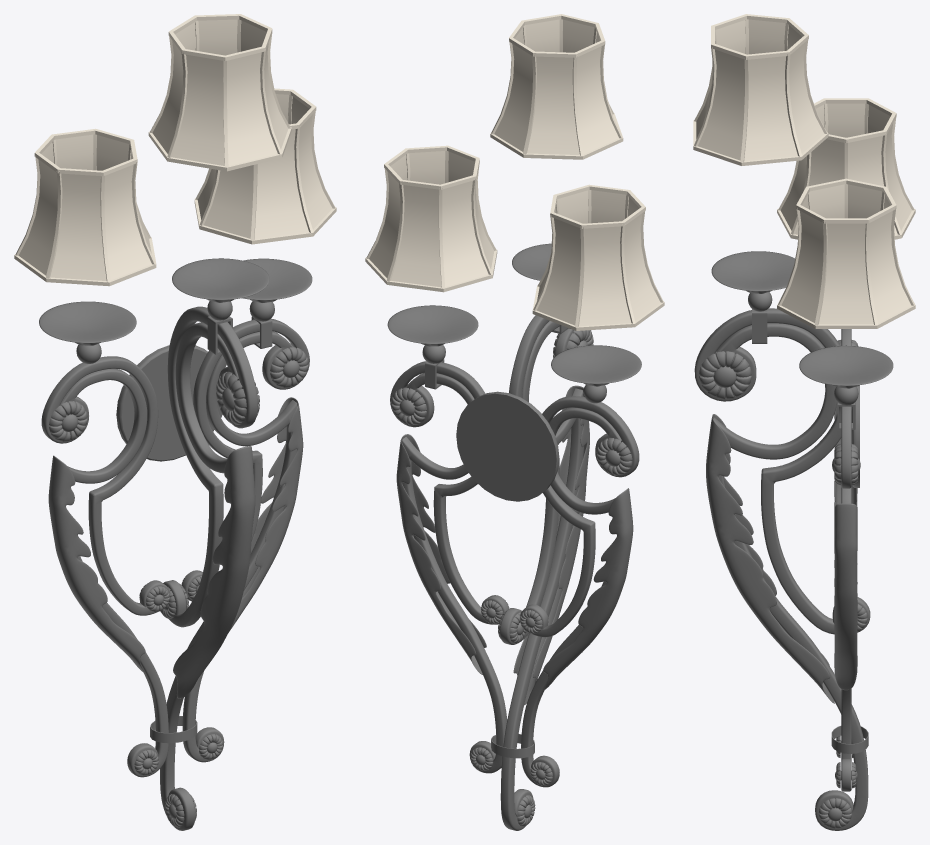
Rendered from WallLight.FBX.
The picture shows the model from 3 angles, left to right: view 1: azimuth 30°, elevation 25°; view 2: azimuth 150°, elevation 25°; view 3: azimuth 270°, elevation 25°; orthographic projection. The views are drawn at different scales.
Visible parts, largest first — view 1: Circle03, Cylinder02, Cylinder03, Cylinder01; view 2: Circle03, Cylinder01, Cylinder03, Cylinder02; view 3: Circle03, Cylinder02, Cylinder01, Cylinder03.
Boxes of the visible parts, x1=… form: Circle03: x1=39, y1=258, x2=312, y2=830; Cylinder02: x1=148, y1=14, x2=291, y2=171; Cylinder03: x1=14, y1=128, x2=156, y2=286; Cylinder01: x1=194, y1=88, x2=336, y2=244; Circle03: x1=387, y1=243, x2=641, y2=830; Cylinder01: x1=365, y1=145, x2=497, y2=292; Cylinder03: x1=532, y1=184, x2=664, y2=330; Cylinder02: x1=490, y1=14, x2=623, y2=159; Circle03: x1=694, y1=251, x2=893, y2=830; Cylinder02: x1=693, y1=14, x2=828, y2=165; Cylinder01: x1=777, y1=178, x2=915, y2=328; Cylinder03: x1=777, y1=98, x2=915, y2=239.
Bounding box in the file's own units: 251 × 681 × 173.
